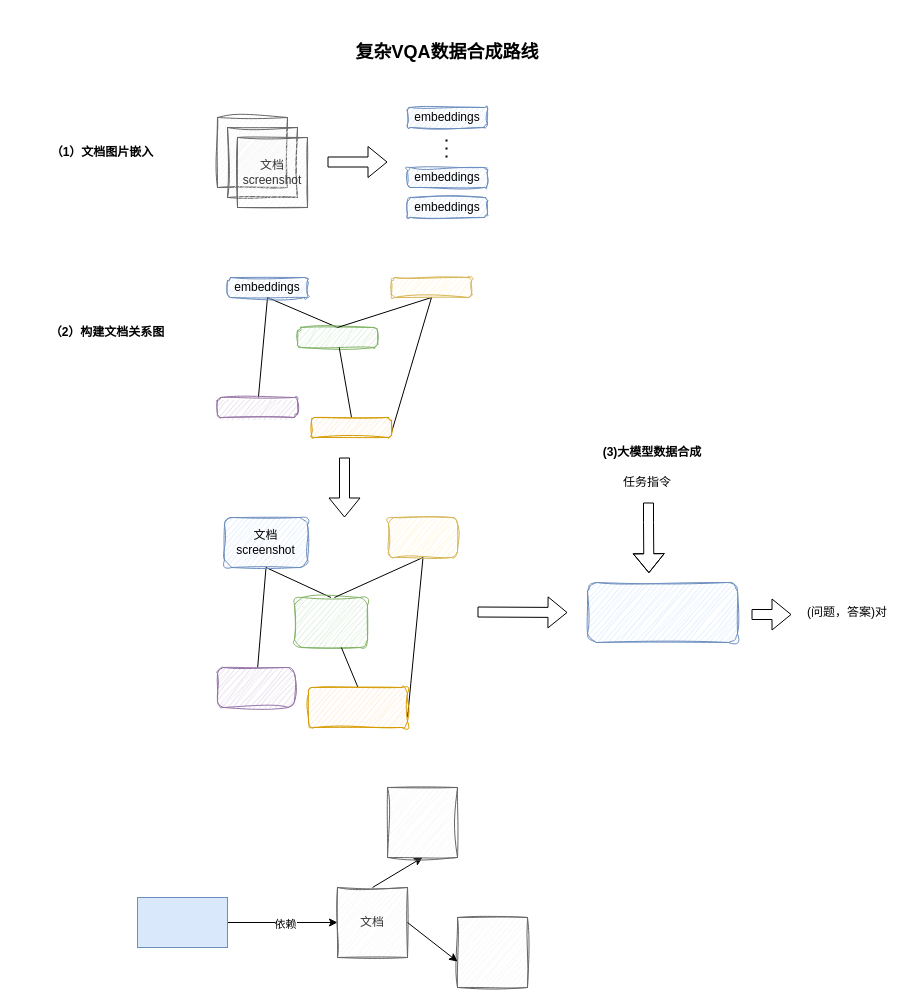
The diagram is 914 pixels wide and 1005 high, and some of its shapes have lost their labels. The box of each missing label's shape, as (x1, y1, x2, y2) in pixels:
多模态大模型(GPT-4o): (586, 582, 738, 642)
查询: (136, 896, 228, 948)
